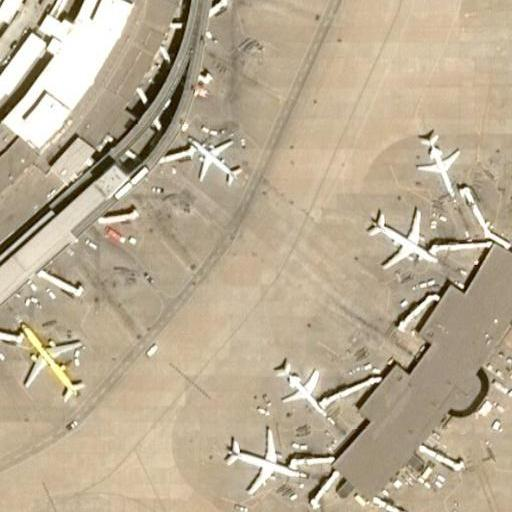Aircraft: (216, 429, 307, 502), (15, 320, 85, 408), (361, 206, 436, 277), (268, 356, 333, 417), (180, 130, 241, 188), (413, 128, 462, 197), (354, 510, 423, 512)
